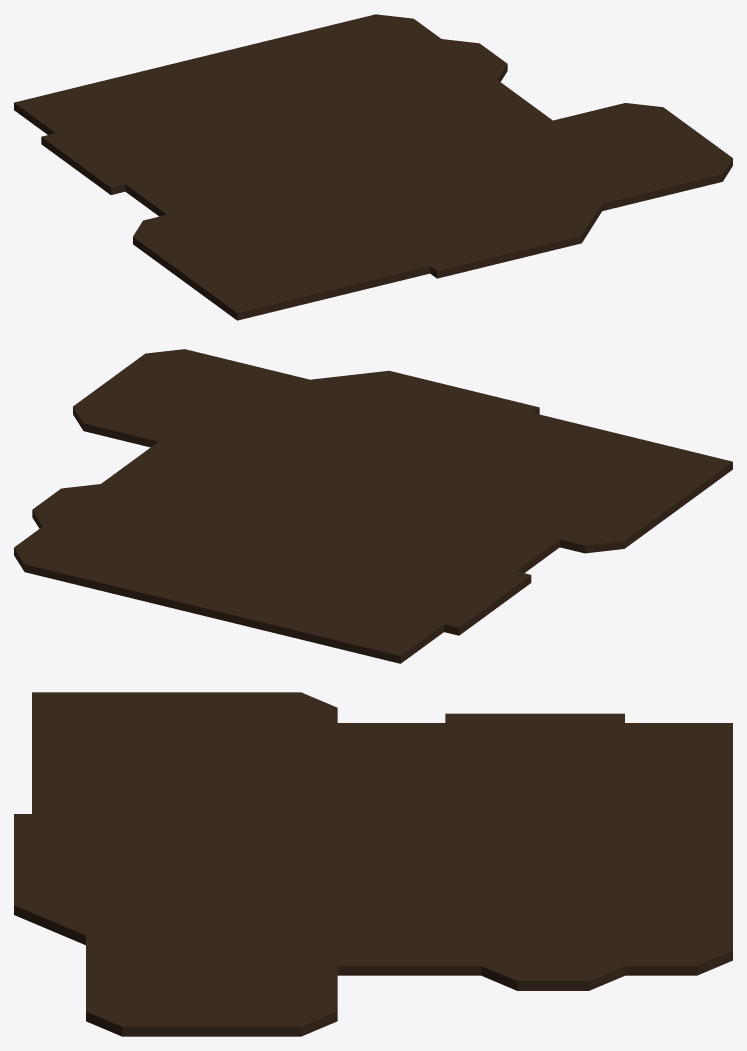
File: FloorGround.fbx
The picture shows the model from 3 angles, top to bottom: view 1: azimuth 30°, elevation 25°; view 2: azimuth 150°, elevation 25°; view 3: azimuth 270°, elevation 25°; orthographic projection. The views are drawn at different scales.
Visible parts, largest first — view 1: Cube.109; view 2: Cube.109; view 3: Cube.109.
Boxes of the visible parts, x1,y1,x2,y2 form: Cube.109: [14, 14, 732, 320]; Cube.109: [14, 349, 732, 663]; Cube.109: [14, 692, 732, 1036].
Bounding box in the file's own units: 20 × 22 × 0.3.
